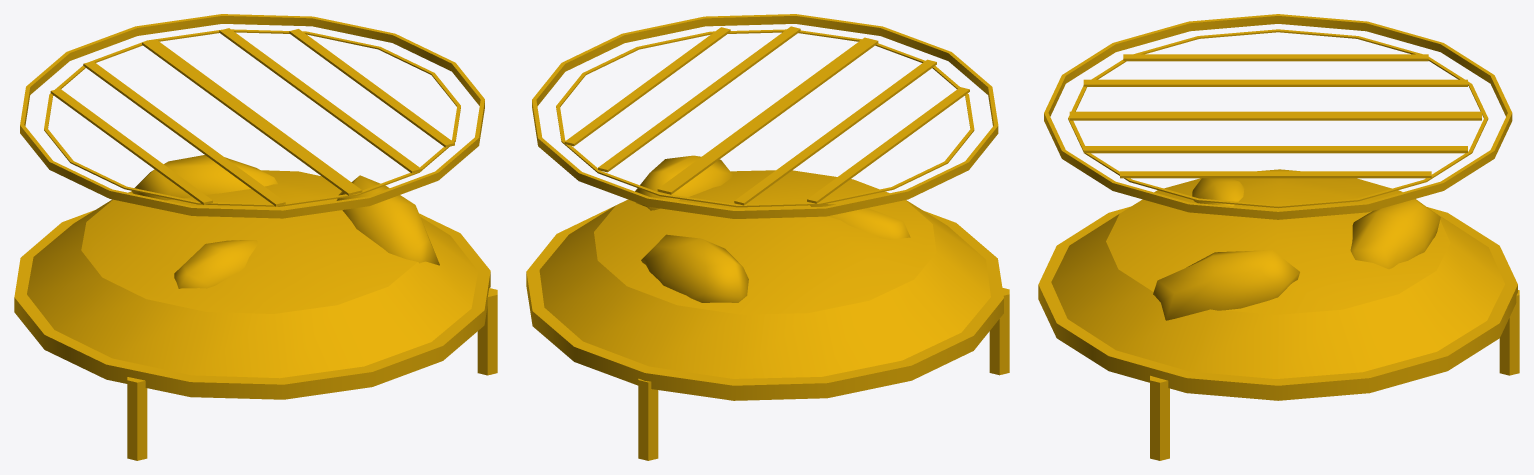
Rendered from Brasero_02_lod0.fbx.
3 views of the same model, side by side, from view 1: azimuth 30°, elevation 25°; view 2: azimuth 150°, elevation 25°; view 3: azimuth 270°, elevation 25° (orthographic).
Parts seen in each view (by area): view 1: Brasero_02_lod0; view 2: Brasero_02_lod0; view 3: Brasero_02_lod0.
Part boxes in pixels (x1=…): Brasero_02_lod0: x1=14, y1=14, x2=497, y2=460; Brasero_02_lod0: x1=526, y1=14, x2=1009, y2=460; Brasero_02_lod0: x1=1038, y1=14, x2=1519, y2=460.
Size of the model in its own units: 41.62 by 24.66 by 41.75.
